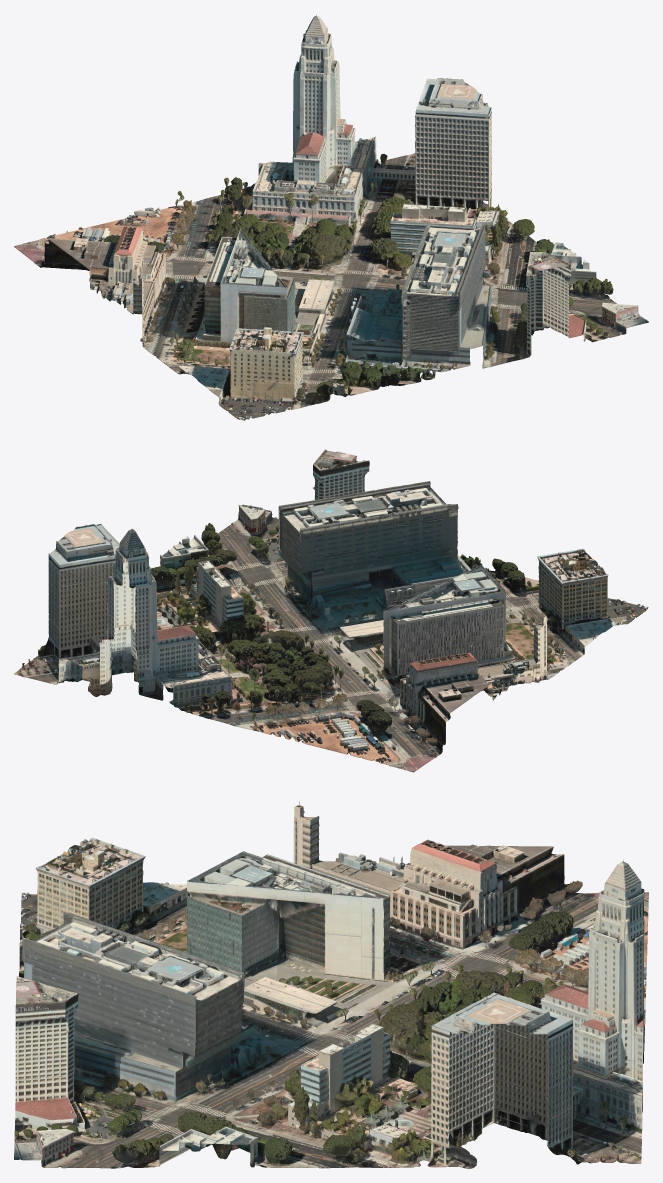
3 views of the same model, one above another, from view 1: azimuth 30°, elevation 25°; view 2: azimuth 150°, elevation 25°; view 3: azimuth 270°, elevation 25° (orthographic). The views are drawn at different scales.
Parts seen in each view (by area): view 1: los_angeles_usa_sample_2, los_angeles_usa_sample_4, los_angeles_usa_sample_1, los_angeles_usa_sample_3; view 2: los_angeles_usa_sample_1, los_angeles_usa_sample_3, los_angeles_usa_sample_2, los_angeles_usa_sample_4; view 3: los_angeles_usa_sample_2, los_angeles_usa_sample_3, los_angeles_usa_sample_1, los_angeles_usa_sample_4.
Boxes of the visible parts, x1,y1,x2,y2 form: los_angeles_usa_sample_2: [76, 80, 518, 340]; los_angeles_usa_sample_4: [199, 250, 648, 420]; los_angeles_usa_sample_1: [14, 15, 462, 273]; los_angeles_usa_sample_3: [137, 207, 607, 381]; los_angeles_usa_sample_1: [14, 528, 477, 772]; los_angeles_usa_sample_3: [151, 496, 605, 682]; los_angeles_usa_sample_2: [57, 524, 541, 709]; los_angeles_usa_sample_4: [189, 449, 648, 630]; los_angeles_usa_sample_2: [300, 816, 528, 1168]; los_angeles_usa_sample_3: [128, 801, 357, 1168]; los_angeles_usa_sample_1: [474, 845, 648, 1164]; los_angeles_usa_sample_4: [14, 837, 185, 1168].
Bounding box in the file's own units: 3.54 × 1.46 × 3.5.
4 materials, 4 textured.
